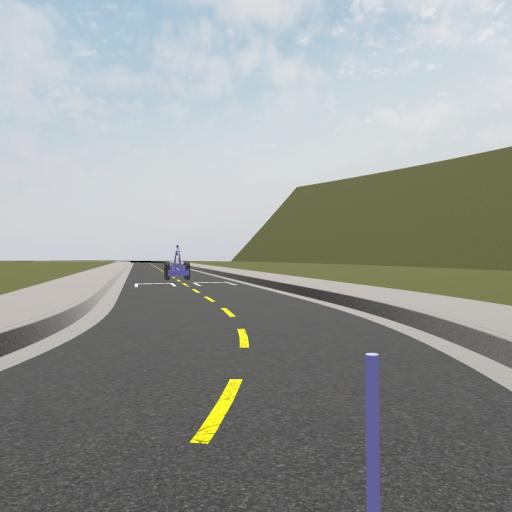ERP-42: (162, 243, 191, 282)
